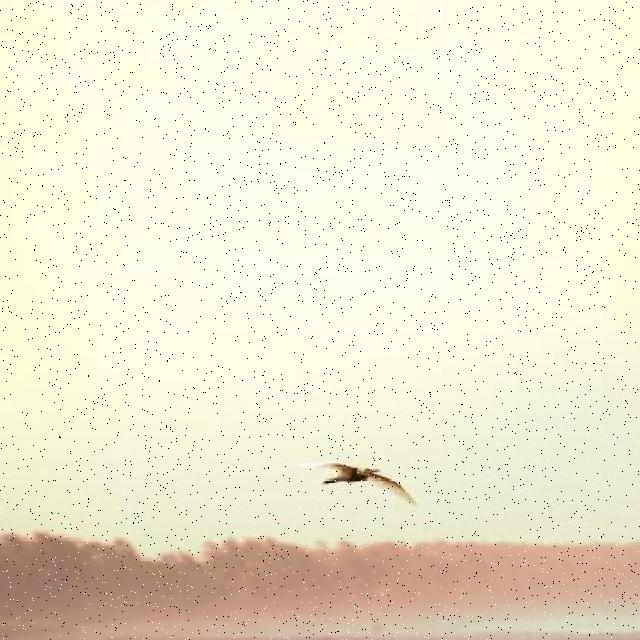bird: (298, 462, 414, 502)
